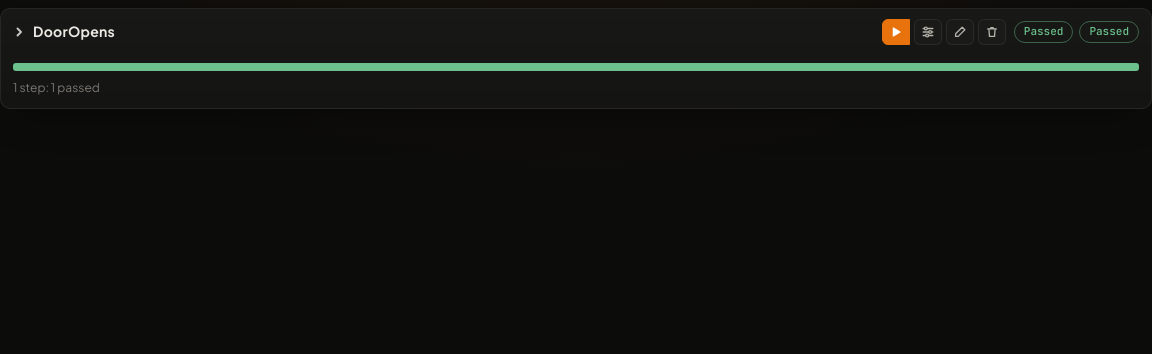
it: the loop on the playtest card › shows Passed with the attempt count and each attempt's changes, grouped
The image size is (1152, 354).
Step 1. Click the button "DoorOpens" → (64, 32), box [13,21,115,43]
(page scrolled)
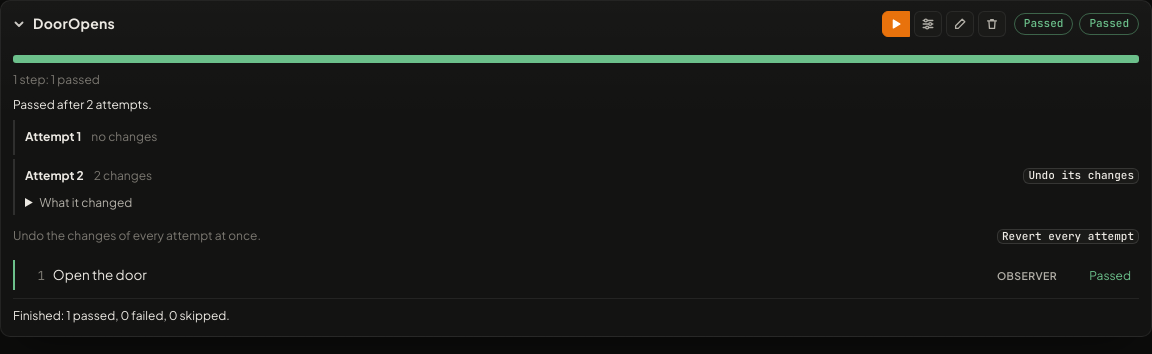
expect the text "Passed after 2 attempts." is shown: met, box [13,97,152,112]
expect the text "Attempt 2" is shown: met, box [25,167,84,185]
expect the text "2 changes" is shown: met, box [94,167,152,185]
